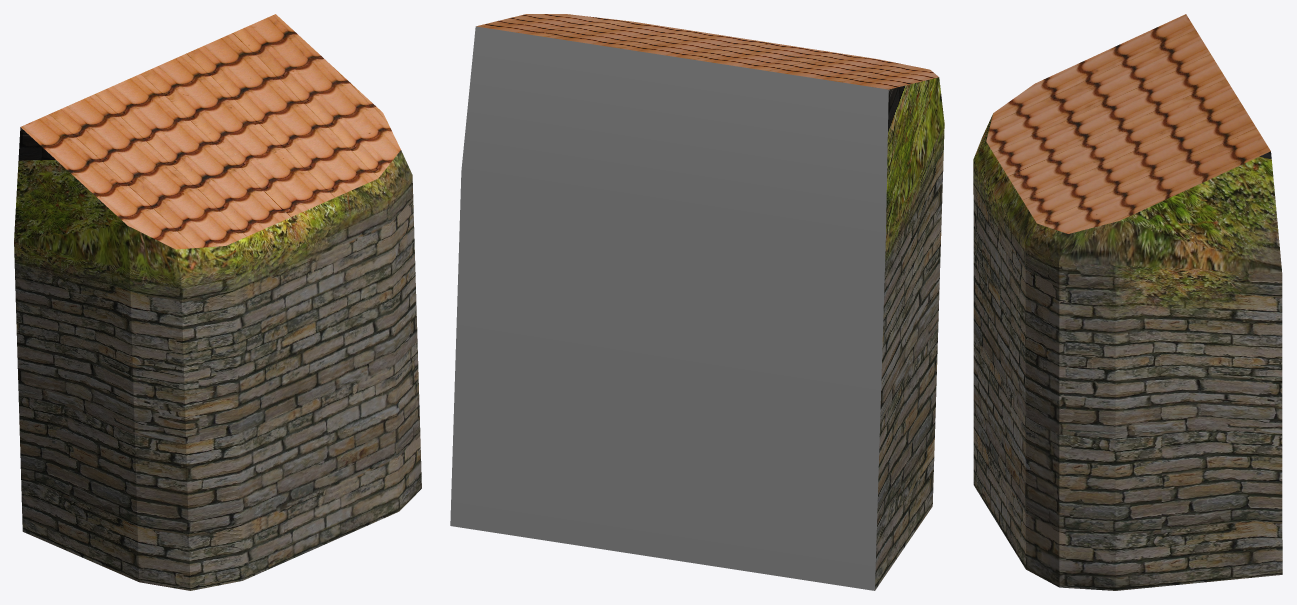
Rendered from wall.fbx.
The picture shows the model from 3 angles, left to right: view 1: azimuth 30°, elevation 25°; view 2: azimuth 150°, elevation 25°; view 3: azimuth 270°, elevation 25°; orthographic projection. The views are drawn at different scales.
Parts seen in each view (by area): view 1: pCube12; view 2: pCube12; view 3: pCube12.
Part boxes in pixels (x1=…): pCube12: x1=14, y1=14, x2=421, y2=590; pCube12: x1=450, y1=14, x2=944, y2=590; pCube12: x1=973, y1=14, x2=1282, y2=590.
Bounding box in the file's own units: 16.64 × 19.13 × 12.56.
Materials: 3 (2 with a texture image).
